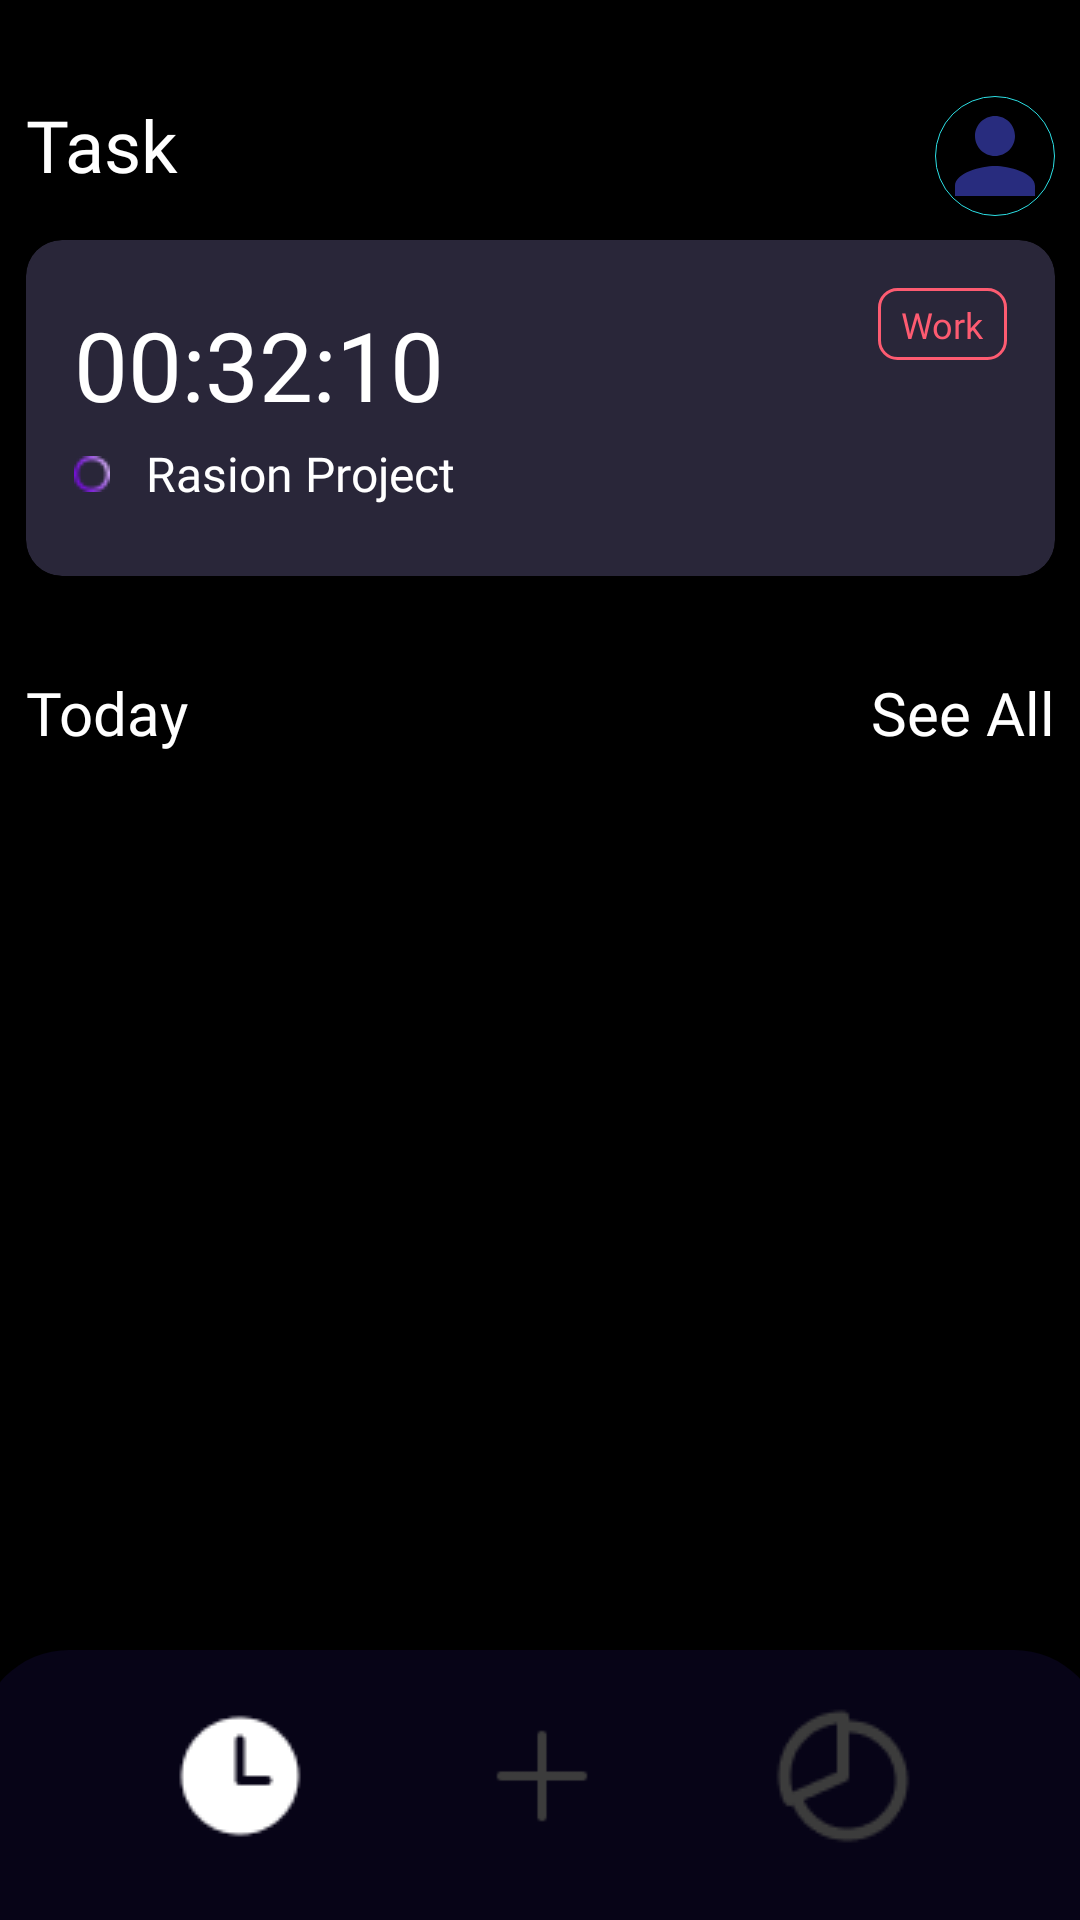

Icons on this 1080px×1920px Android screen, each with the point to tap as (x=x, y=y):
add: (x=542, y=1776)
pie chart: (x=843, y=1776)
time: (x=240, y=1776)
